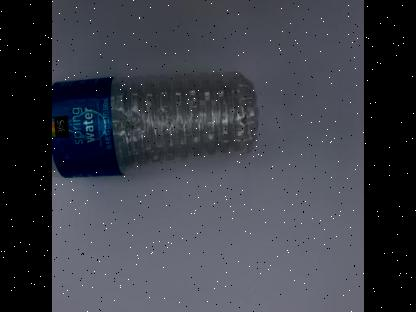Plastic Bottle: (52, 64, 270, 184)
